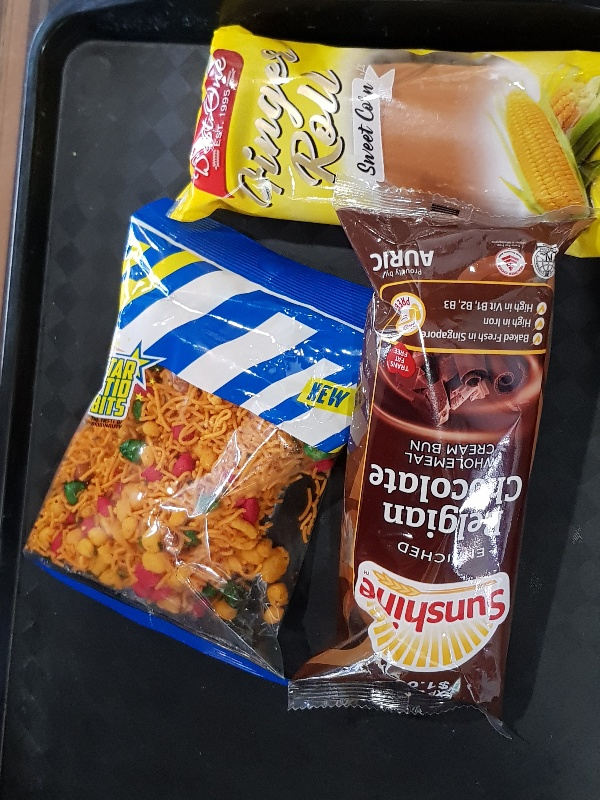Star Tidbits Mixer: (24, 197, 374, 692)
Sunshine Belgium Chocolate Wholemeal Cream Bun: (287, 182, 585, 737)
Tinges Roll Sweet Corn: (165, 24, 600, 259)
